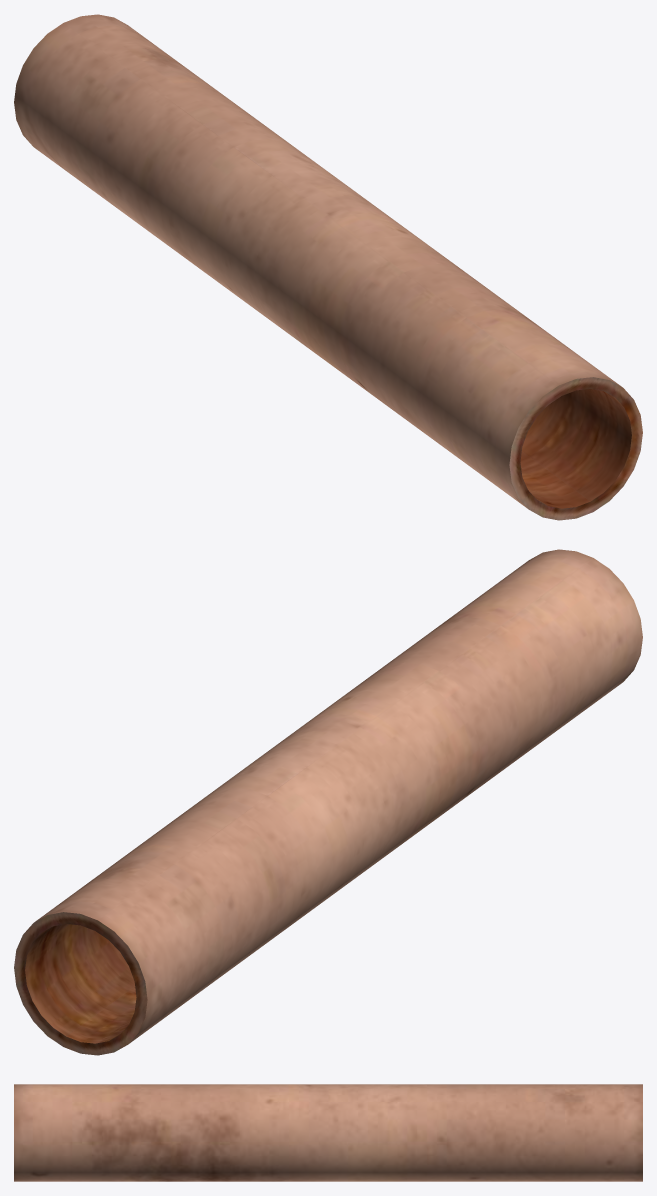
File: small_copper_pipe_06.glb
3 views of the same model, one above another, from view 1: azimuth 30°, elevation 25°; view 2: azimuth 150°, elevation 25°; view 3: azimuth 270°, elevation 25° (orthographic). The views are drawn at different scales.
Parts seen in each view (by area): view 1: small_copper_pipe_06; view 2: small_copper_pipe_06; view 3: small_copper_pipe_06.
Part boxes in pixels (left/top/right/bottom): small_copper_pipe_06: left=14, top=14, right=642, bottom=520; small_copper_pipe_06: left=14, top=549, right=642, bottom=1055; small_copper_pipe_06: left=14, top=1084, right=642, bottom=1181.
Size of what is drawn, in the model's own units: 0.0202 by 0.0202 by 0.13.
1 material, 1 textured.
